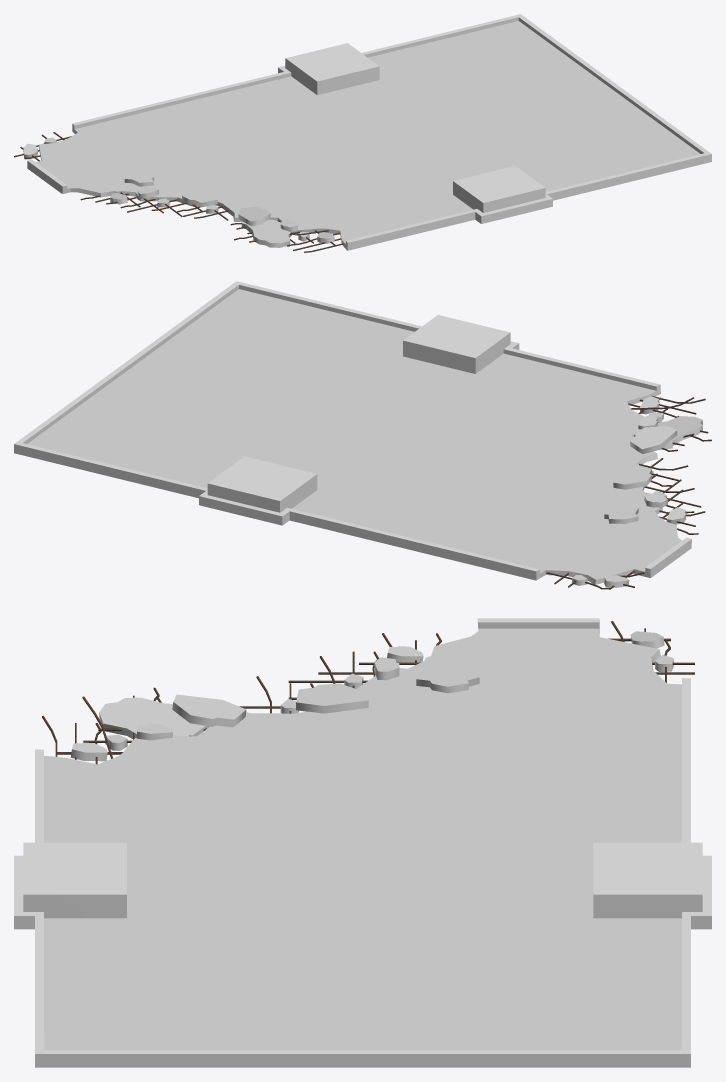
Rendered from Ruin3G_LOD0.fbx.
3 views of the same model, one above another, from view 1: azimuth 30°, elevation 25°; view 2: azimuth 150°, elevation 25°; view 3: azimuth 270°, elevation 25° (orthographic). The views are drawn at different scales.
Parts seen in each view (by area): view 1: polySurface1261; view 2: polySurface1261; view 3: polySurface1261.
Boxes of the visible parts, x1,y1,x2,y2 form: polySurface1261: (14, 14, 711, 252); polySurface1261: (14, 281, 711, 589); polySurface1261: (14, 618, 711, 1067).
Bounding box in the file's own units: 33.1 × 1.2 × 22.41.
